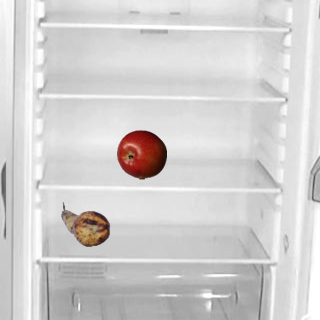Apple Braeburn: (116, 129, 166, 179)
Pear Abate: (60, 199, 110, 249)
